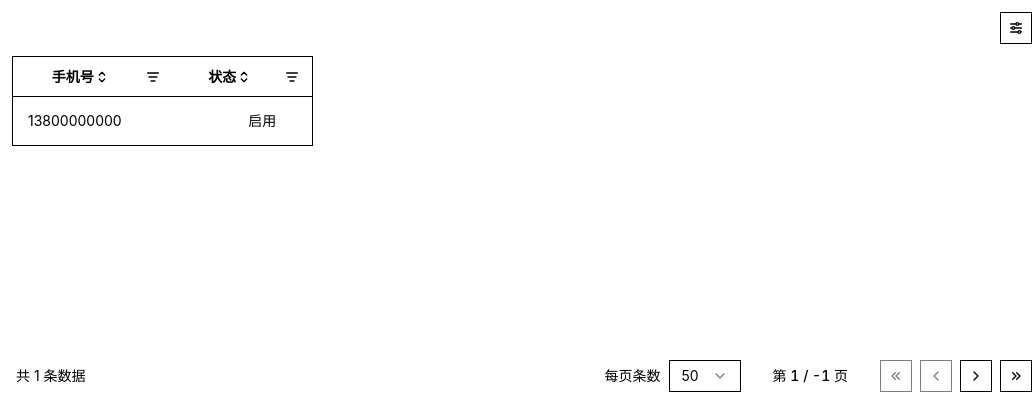
Test: DataTable editable input and switch cells › keeps a blocked input editor focused and restores the initial value with Escape
This screenshot has width=1036, height=409.
Double-click the cell "13800000000": (92, 121) [12, 97, 172, 145]
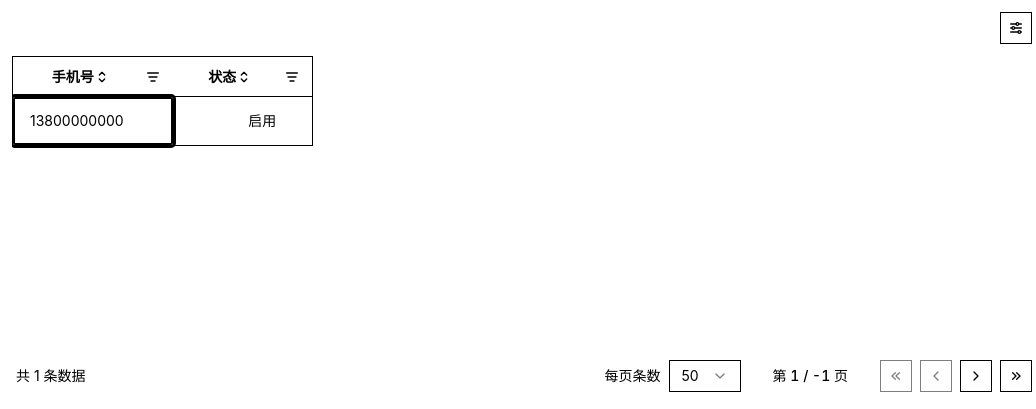
Clear the field named "编辑手机号": (93, 121) [13, 97, 172, 144]
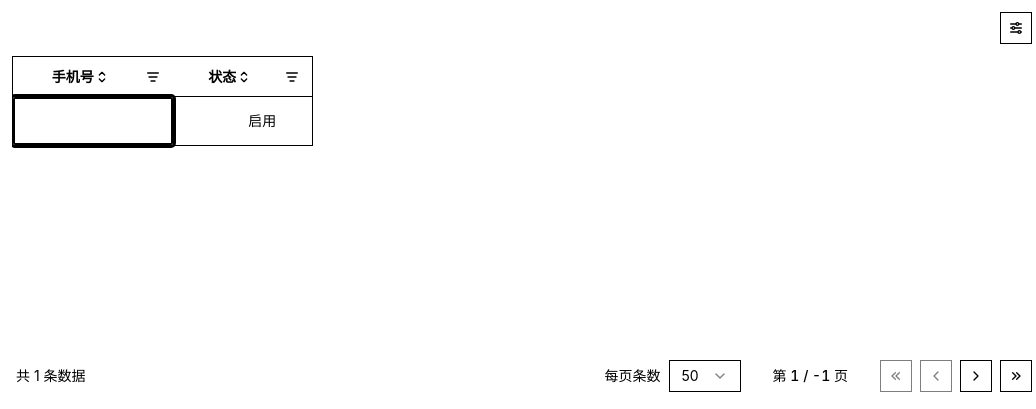
Press Enter
Press Escape
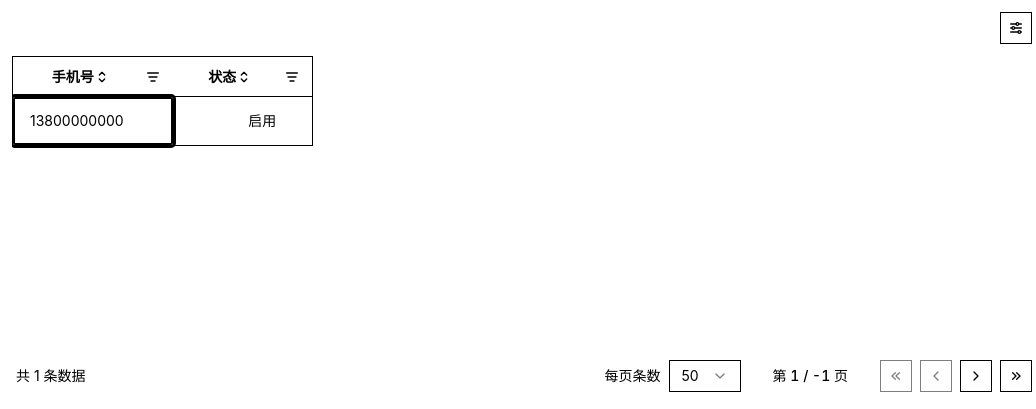
Now the field labelled "编辑手机号" is gone
Now the cell "13800000000" is shown, box [12, 97, 172, 145]
